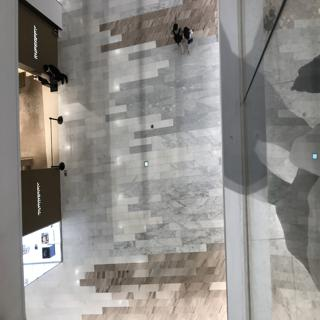person: (162, 20, 183, 58), (182, 24, 194, 51)
